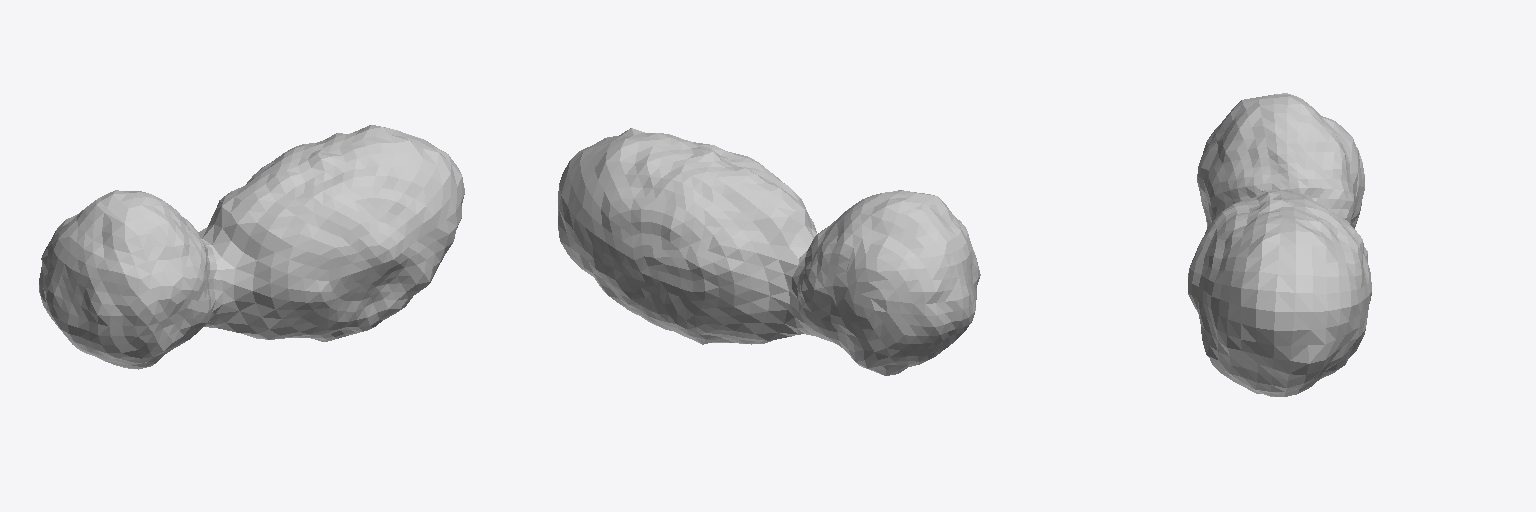
3 renders of one model, left to right at view 1: azimuth 30°, elevation 25°; view 2: azimuth 150°, elevation 25°; view 3: azimuth 270°, elevation 25°, orthographic.
Parts seen in each view (by area): view 1: hw1; view 2: hw1; view 3: hw1.
Part boxes in pixels (left/top/right/bottom): hw1: left=39, top=125, right=464, bottom=369; hw1: left=558, top=128, right=980, bottom=375; hw1: left=1188, top=93, right=1371, bottom=396.
Size of the model in its own units: 3.78 by 1.64 by 1.49.